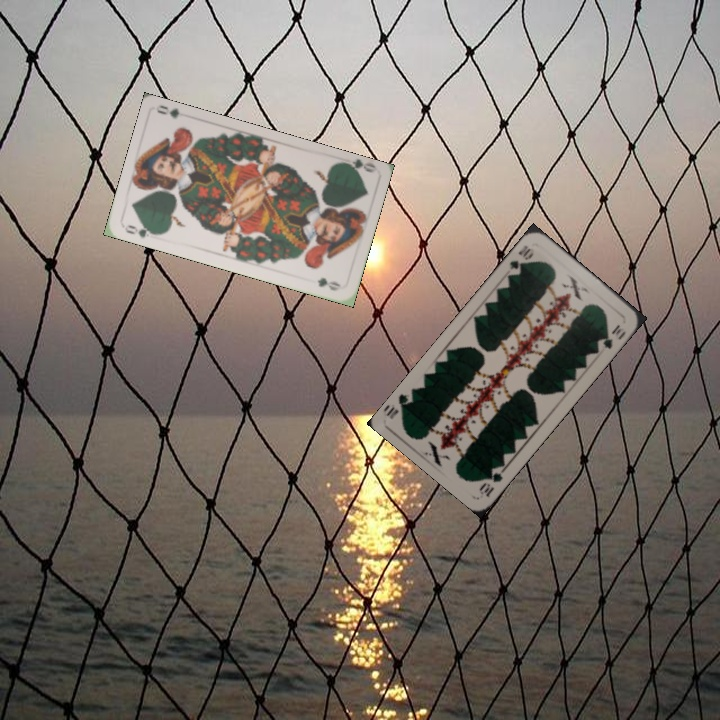G10: (475, 462, 508, 500), (505, 241, 537, 274)
GO: (336, 157, 377, 179), (120, 221, 161, 240)
